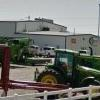Tractor: (33, 41, 100, 93)
